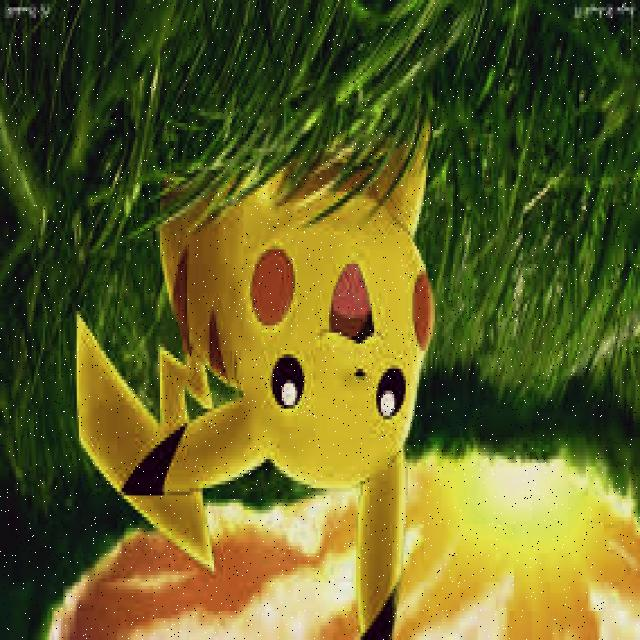pikachu: (74, 81, 435, 639)
